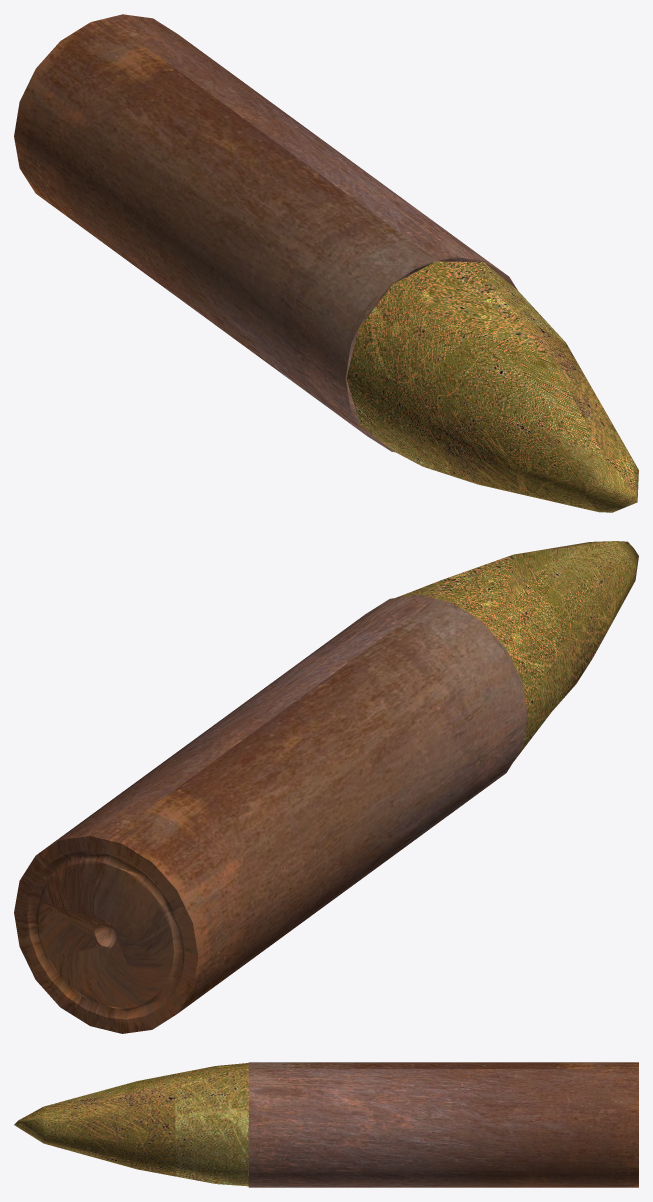
File: shell_type1_lod1.FBX
3 views of the same model, one above another, from view 1: azimuth 30°, elevation 25°; view 2: azimuth 150°, elevation 25°; view 3: azimuth 270°, elevation 25° (orthographic). The views are drawn at different scales.
Parts seen in each view (by area): view 1: Cylinder001, top; view 2: Cylinder001, top; view 3: Cylinder001, top.
Boxes of the visible parts, x1,y1,x2,y2 form: Cylinder001: [14, 14, 517, 452]; top: [346, 261, 638, 512]; Cylinder001: [14, 594, 527, 1033]; top: [396, 541, 638, 760]; Cylinder001: [248, 1062, 638, 1187]; top: [14, 1063, 248, 1186].
Size of the model in its own units: 34.65 by 34.12 by 172.
3 materials, 2 textured.
